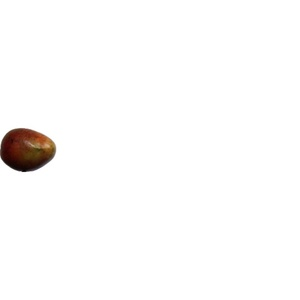manga: (1, 128, 57, 172)
